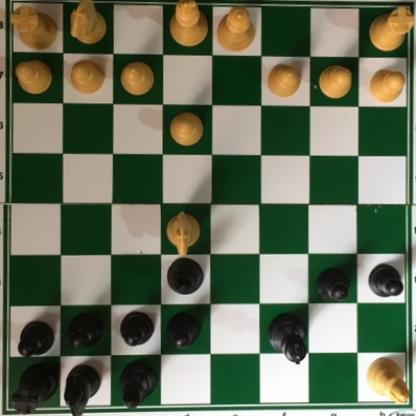black-bishop: (120, 359, 161, 415), (166, 257, 205, 296)
black-king: (269, 312, 311, 364)
black-knight: (63, 362, 101, 415)
black-pawn: (17, 320, 56, 360), (68, 311, 107, 350), (166, 309, 203, 348), (368, 263, 407, 299), (317, 266, 352, 304), (120, 310, 155, 348)
black-rook: (12, 363, 60, 415)
white-bishop: (364, 355, 411, 406)
white-king: (168, 0, 211, 50)
white-knight: (165, 207, 200, 258), (70, 0, 107, 46)
white-pawn: (13, 55, 56, 95), (369, 67, 405, 110), (317, 62, 356, 101), (70, 59, 108, 98), (265, 63, 304, 100), (169, 110, 205, 149), (119, 61, 158, 96)
white-queen: (217, 5, 259, 54)
white-rook: (10, 5, 62, 54), (367, 6, 415, 53)
